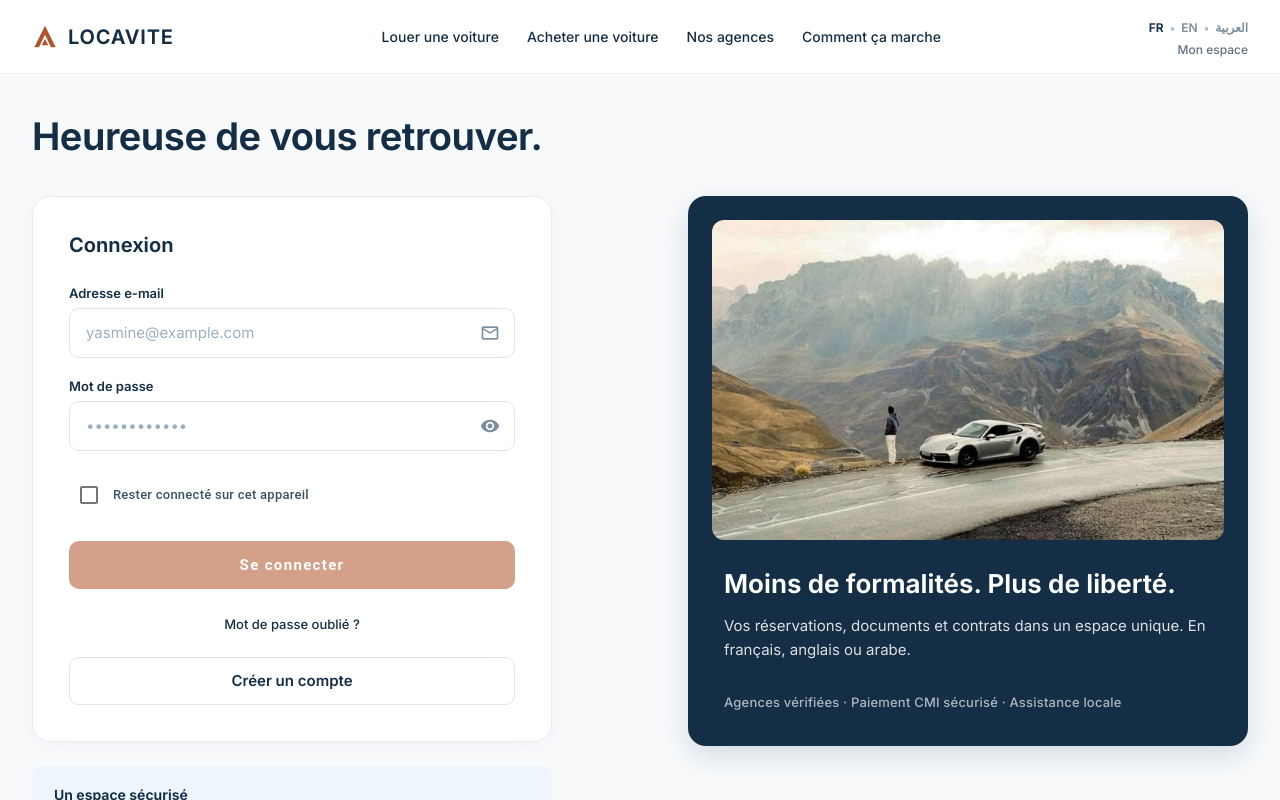
Scenario: Page de connexion (Login) › affiche un message derreur lors dun échec de connexion (mauvais identifiants)
The width and height of the screenshot is (1280, 800).
Type "inconnu@locavite.ma" into the field named "email". click: (282, 333)
box: [84, 308, 480, 358]
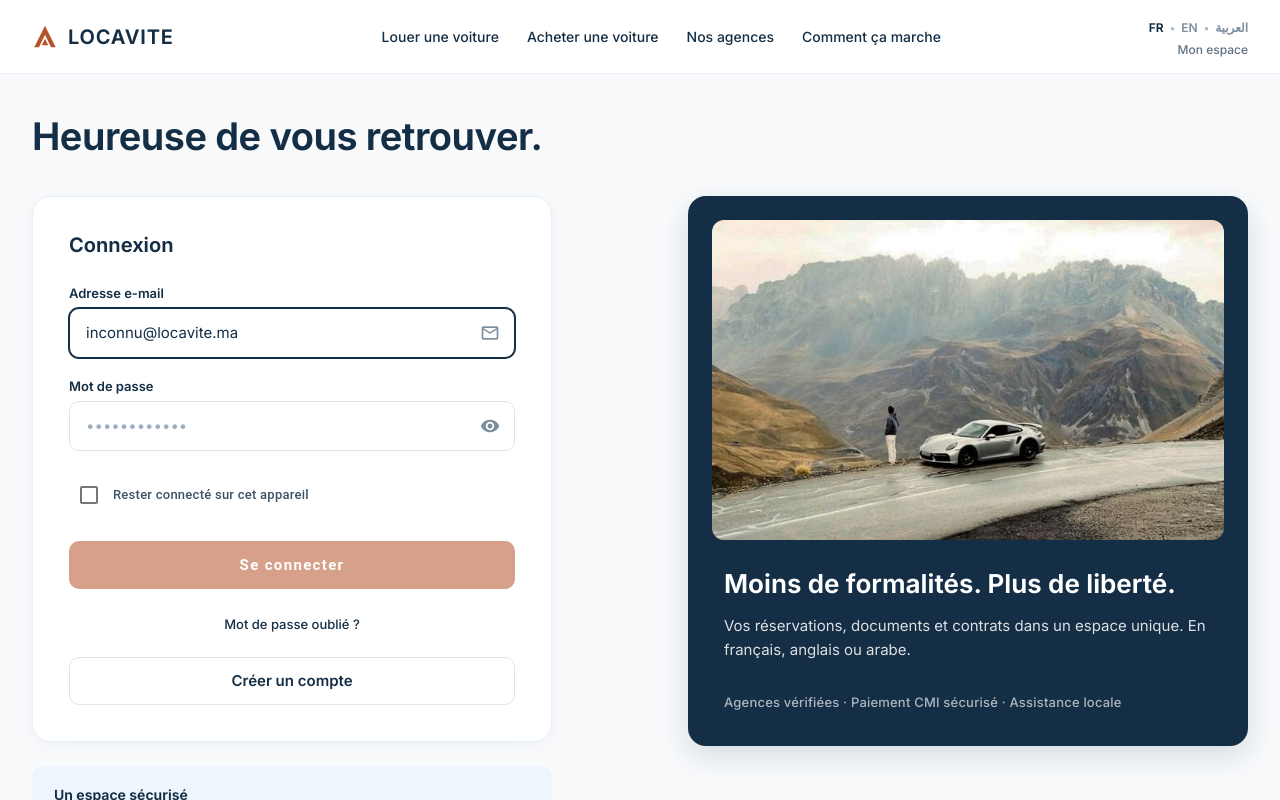
Type "MauvaisMotDePasse1" into the password field named "password". click: (282, 426)
box: [84, 401, 480, 451]
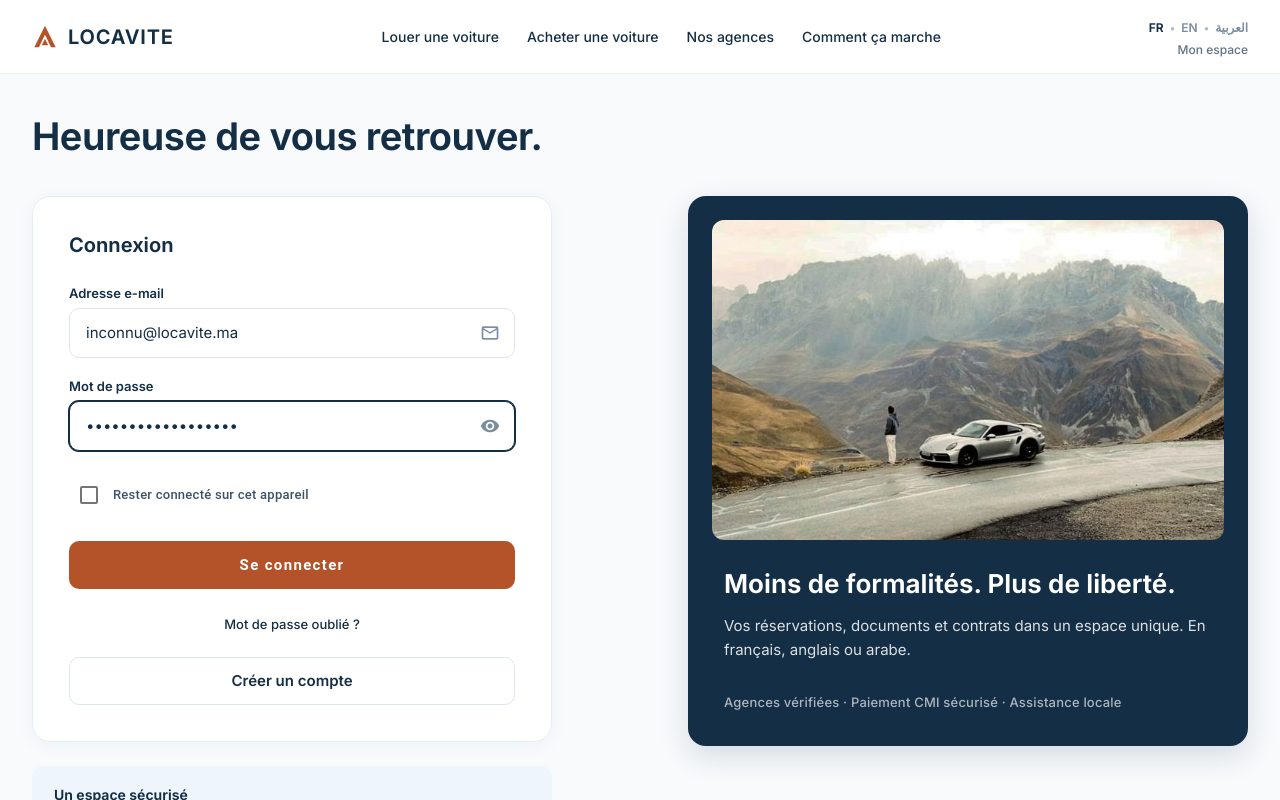
Click the submit button. click: (292, 565)
box: [69, 541, 515, 589]
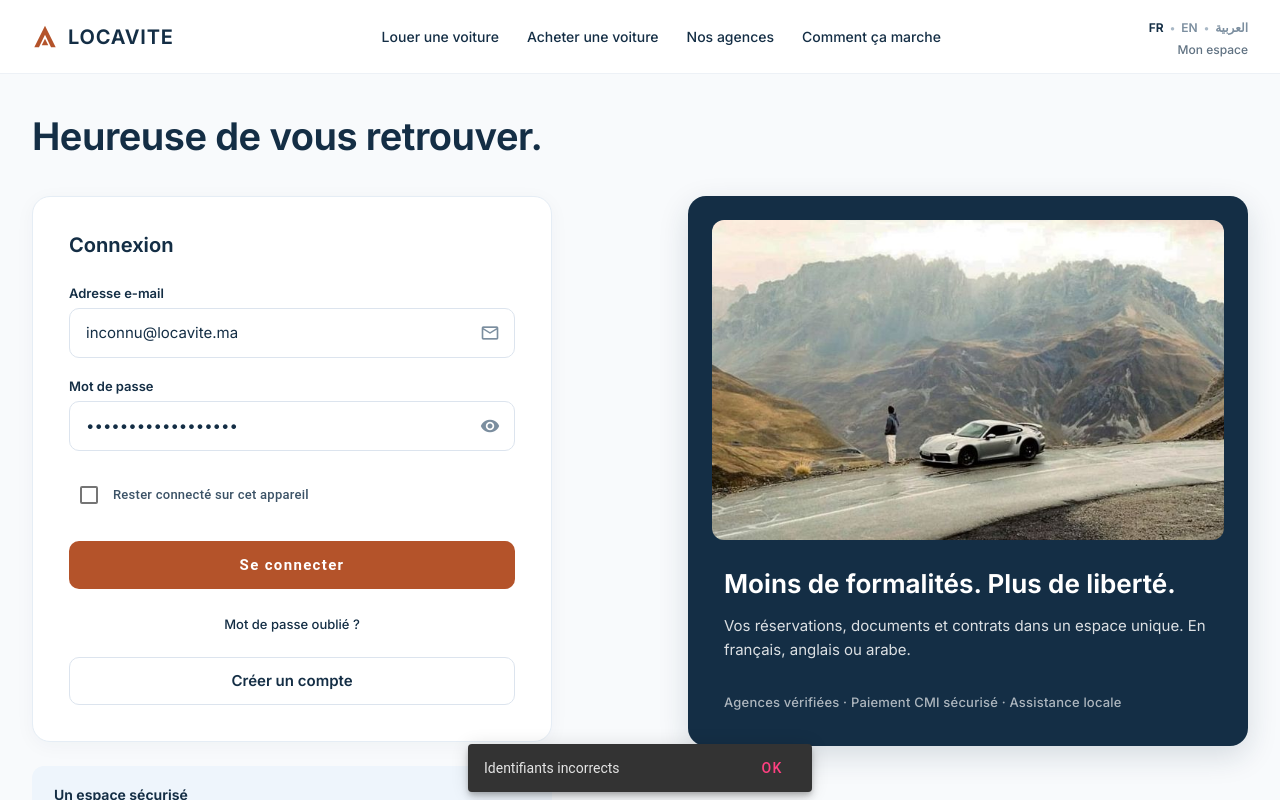
Expected: the text "Identifiants incorrects" is shown, [484, 760, 620, 776]
